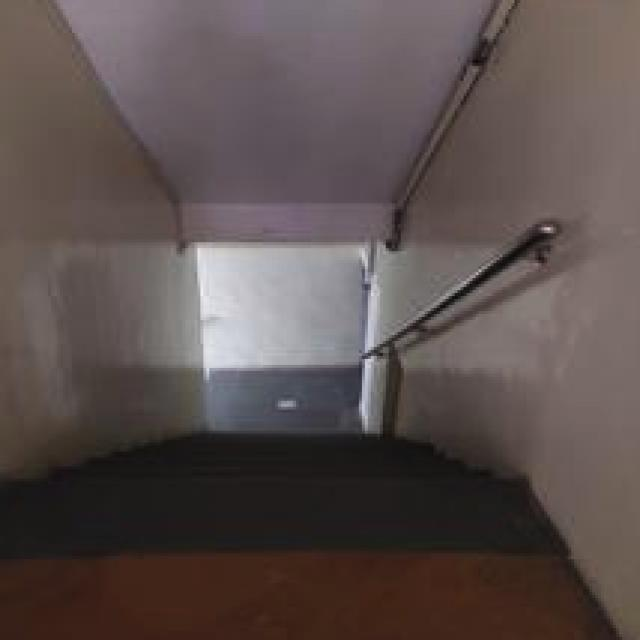downstair: (109, 375, 399, 512)
